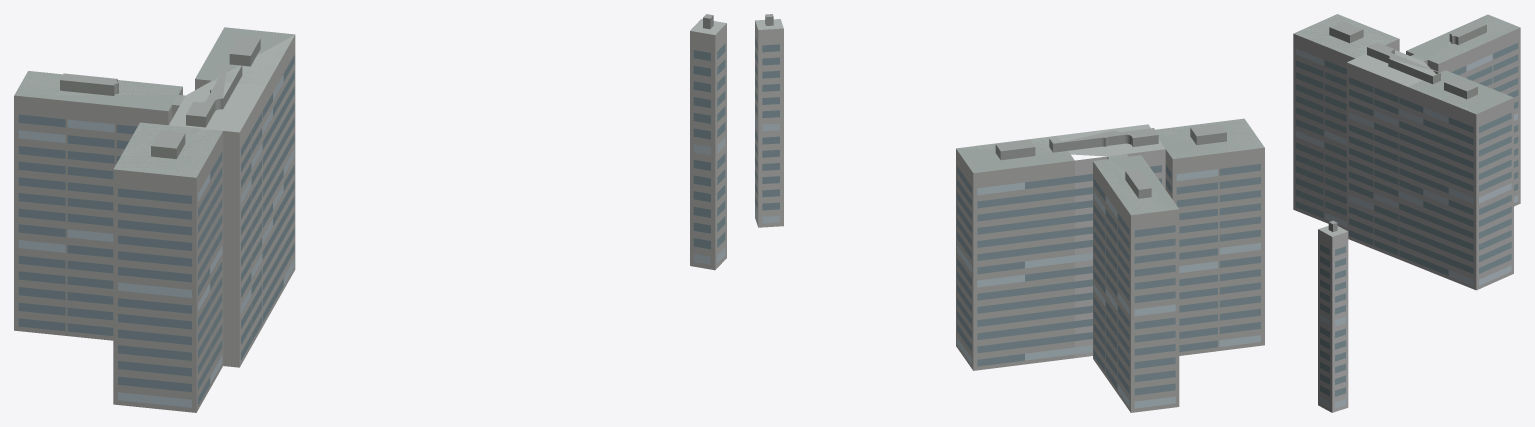
File: apt-a10024692.glb
3 renders of one model, left to right at view 1: azimuth 30°, elevation 25°; view 2: azimuth 150°, elevation 25°; view 3: azimuth 270°, elevation 25°, orthographic. The views are drawn at different scales.
Parts seen in each view (by area): view 1: apt-a10024692; view 2: apt-a10024692; view 3: apt-a10024692.
Part boxes in pixels (left/top/right/bottom): apt-a10024692: left=14, top=14, right=726, bottom=412; apt-a10024692: left=755, top=14, right=1264, bottom=412; apt-a10024692: left=1293, top=14, right=1520, bottom=412.
Bounding box in the file's own units: 124 × 47.81 × 53.5.
